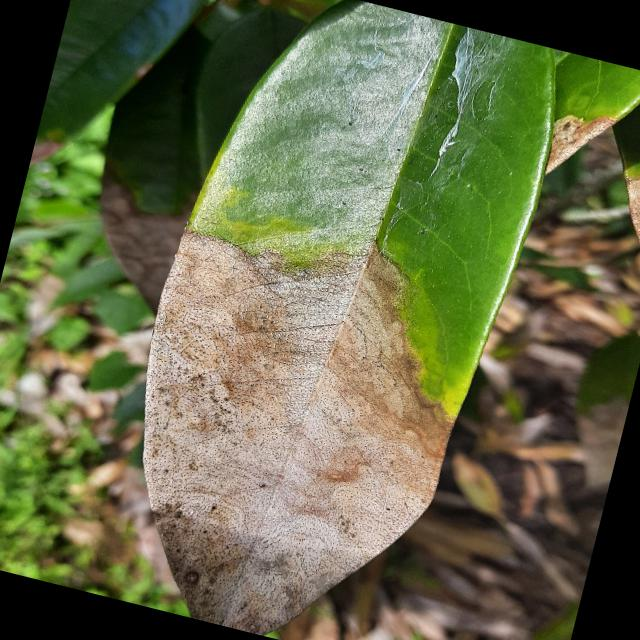Leaf Blight: (82, 0, 584, 639)
